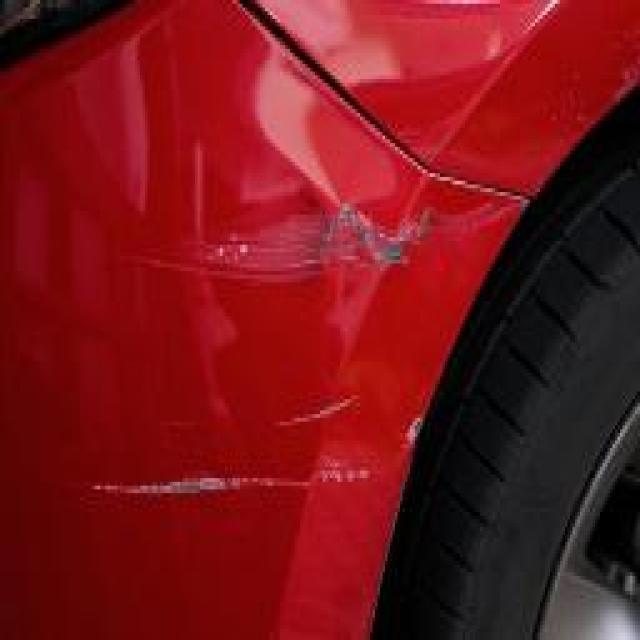Bumper: (15, 30, 465, 610)
